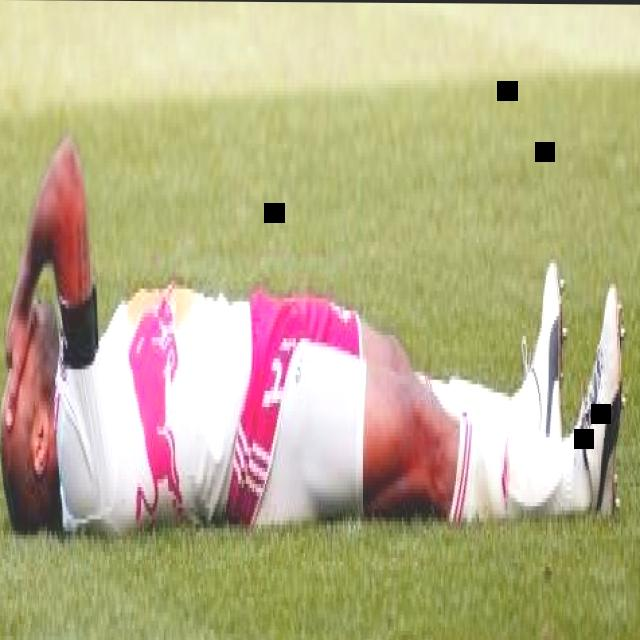Fall-Detected: (0, 0, 640, 571)
